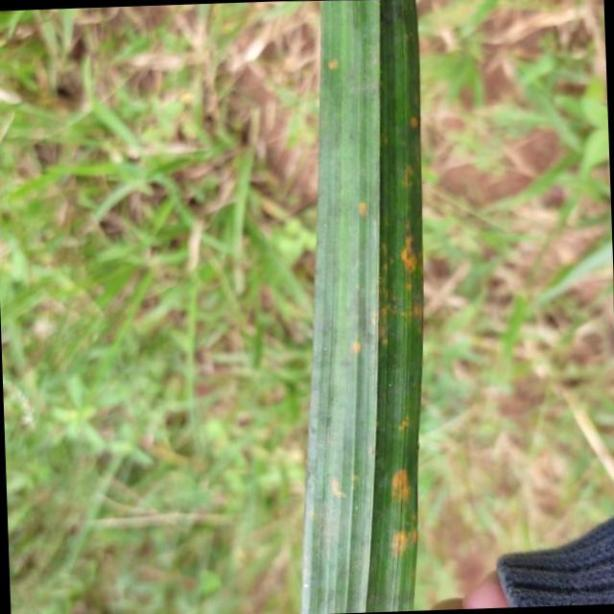Kalium: (298, 0, 429, 614)
